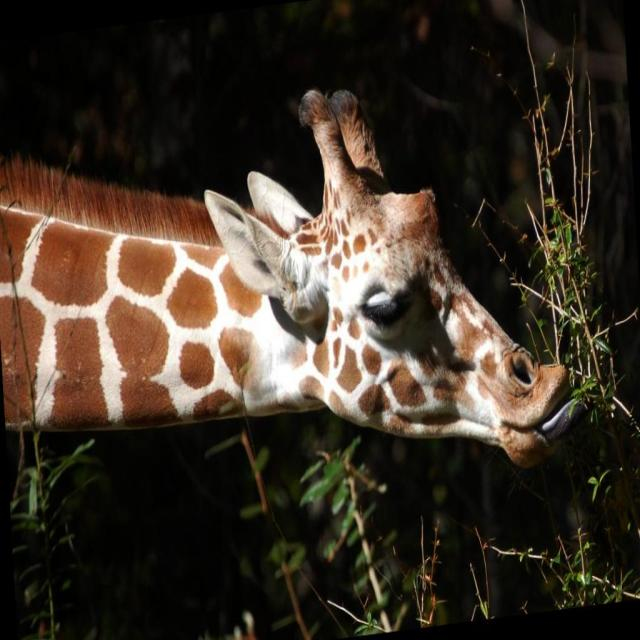Giraffe: (0, 74, 599, 473)
